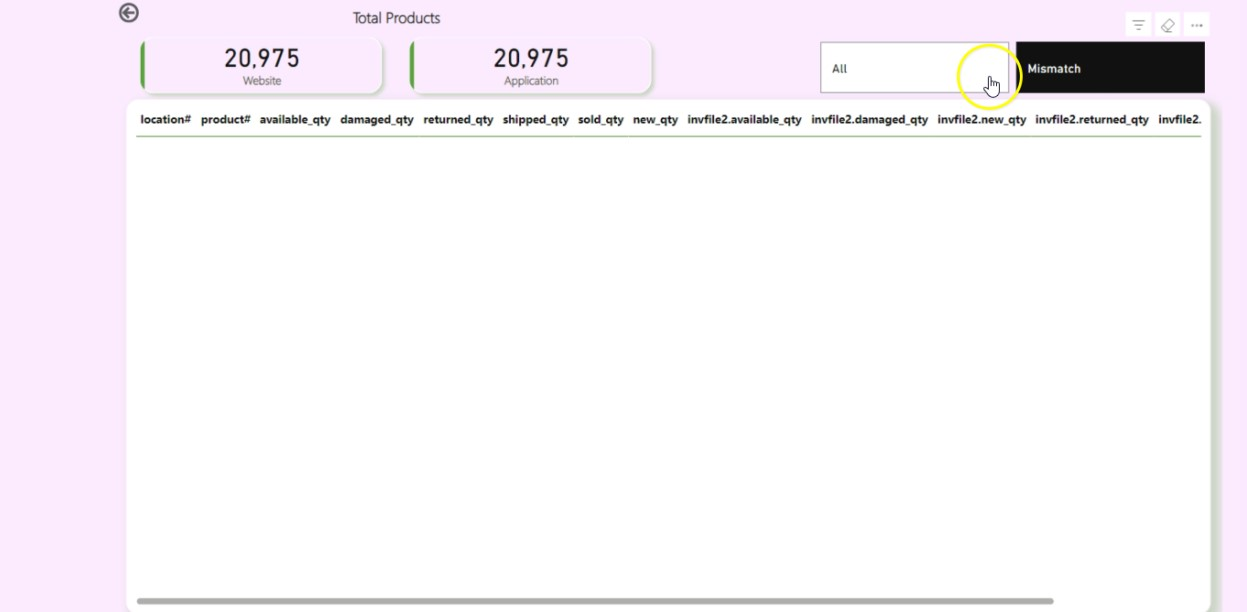

What the dashboard file says about the page in this screenshot:
{"tool":"powerbi","page":{"name":"Inv Audit","canvas":[1280,720],"ordinal":1},"visuals":[{"type":"tableEx","fields":{"Values":["merged_tb.locationid","merged_tb.productid","merged_tb.available_qty","merged_tb.damaged_qty","merged_tb.returned_qty","merged_tb.shipped_qty","merged_tb.sold_qty","merged_tb.new_qty","merged_tb.invfile2.available_qty","merged_tb.invfile2.damaged_qty","merged_tb.invfile2.new_qty","merged_tb.invfile2.returned_qty"]},"box":[12.1,117,1253.5,596],"z":0},{"type":"cardVisual","title":"Total Products","fields":{"Data":["invfile1.tot_invfile1","invfile1.tot_invfile2"]},"box":[12.3,11,625.7,116.6],"z":1000},{"type":"advancedSlicerVisual","fields":{"Values":["slice_tb.Value2"]},"box":[809.6,46.7,455.6,70],"z":2000},{"type":"actionButton","box":[0,0,31.6,34.3],"z":3000}]}

Visuals, with their boxes in screenshot pixels (x1, y1, x2, y2):
tableEx - merged_tb.locationid x merged_tb.productid: <bbox>198, 117, 1209, 598</bbox>
"Total Products" cardVisual: <bbox>198, 32, 703, 126</bbox>
advancedSlicerVisual - slice_tb.Value2: <bbox>841, 60, 1209, 117</bbox>
actionButton: <bbox>188, 23, 214, 50</bbox>
